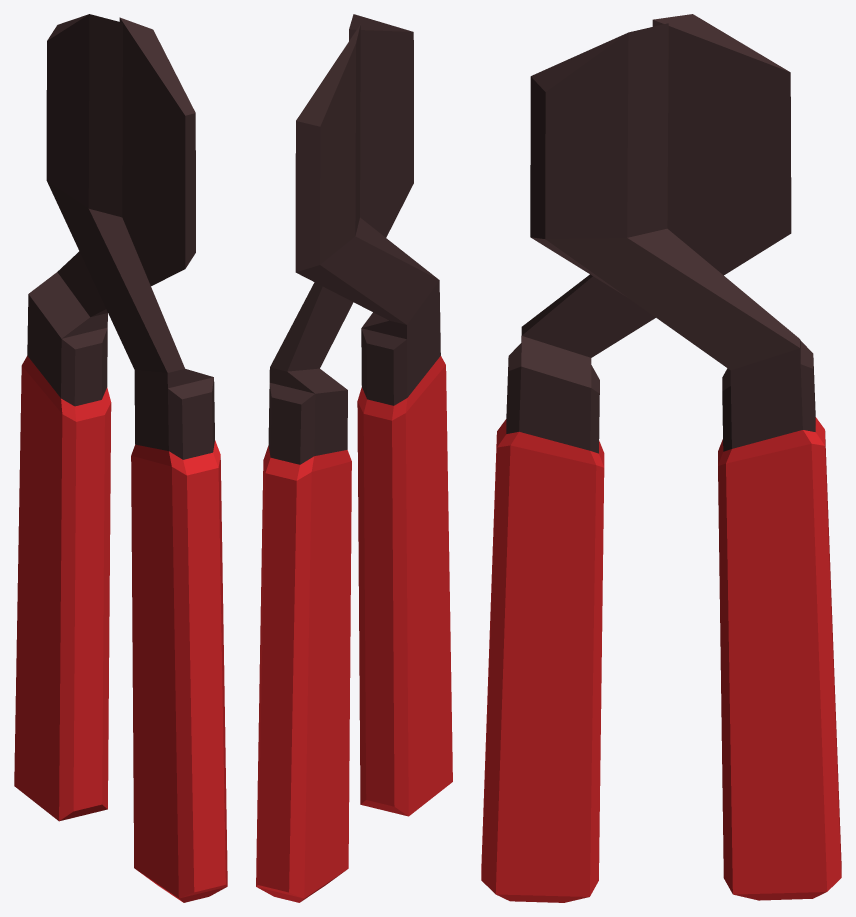
Rendered from BoltCutter.fbx.
The picture shows the model from 3 angles, left to right: view 1: azimuth 30°, elevation 25°; view 2: azimuth 150°, elevation 25°; view 3: azimuth 270°, elevation 25°; orthographic projection. The views are drawn at different scales.
Visible parts, largest first — view 1: Cube; view 2: Cube; view 3: Cube.
Boxes of the visible parts, x1=… form: Cube: x1=14, y1=14, x2=227, y2=902; Cube: x1=256, y1=14, x2=452, y2=902; Cube: x1=481, y1=14, x2=841, y2=902.
Size of the model in its own units: 4.13 by 58.6 by 21.85.
